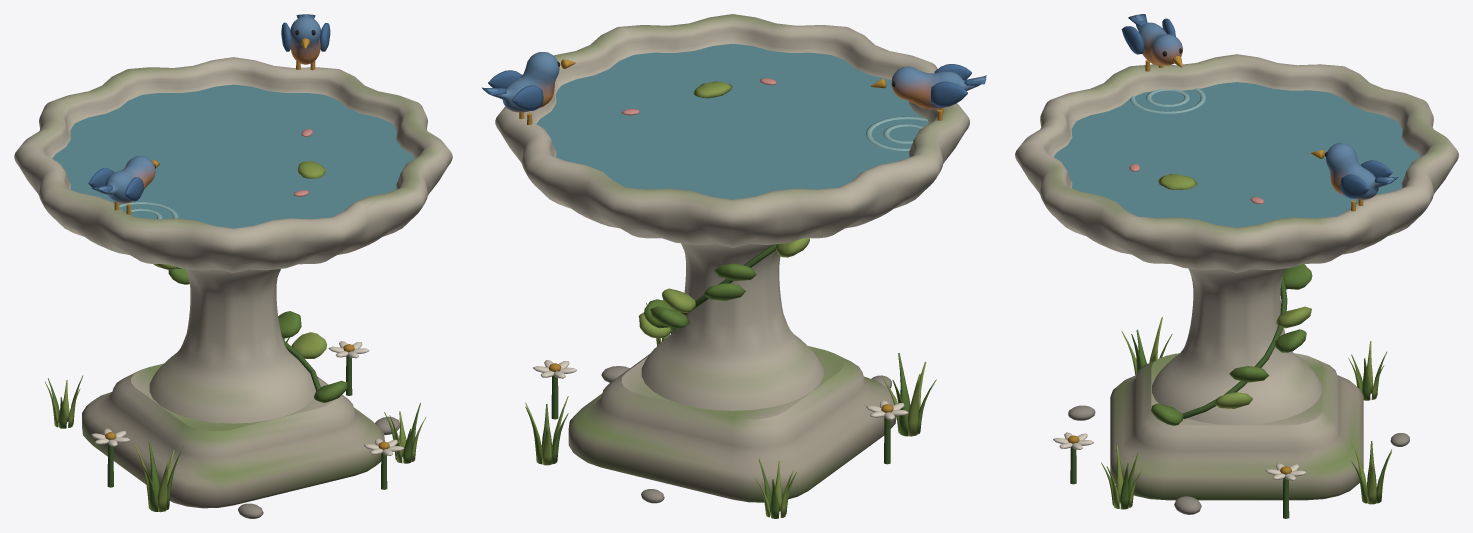
Rendered from DEC_Birdbath_A.fbx.
3 renders of one model, left to right at view 1: azimuth 30°, elevation 25°; view 2: azimuth 150°, elevation 25°; view 3: azimuth 270°, elevation 25°, orthographic. The views are drawn at different scales.
Parts seen in each view (by area): view 1: DEC_Birdbath_A_Body_LOD0, DEC_Birdbath_A_BirdDrinking_LOD0; view 2: DEC_Birdbath_A_Body_LOD0, DEC_Birdbath_A_BirdDrinking_LOD0; view 3: DEC_Birdbath_A_Body_LOD0, DEC_Birdbath_A_BirdDrinking_LOD0.
Part boxes in pixels (x1=…): DEC_Birdbath_A_Body_LOD0: x1=14, y1=14, x2=452, y2=518; DEC_Birdbath_A_BirdDrinking_LOD0: x1=88, y1=156, x2=160, y2=214; DEC_Birdbath_A_Body_LOD0: x1=482, y1=14, x2=969, y2=518; DEC_Birdbath_A_BirdDrinking_LOD0: x1=870, y1=64, x2=986, y2=120; DEC_Birdbath_A_Body_LOD0: x1=1015, y1=54, x2=1458, y2=518; DEC_Birdbath_A_BirdDrinking_LOD0: x1=1121, y1=14, x2=1182, y2=71.
Size of what is drawn, in the model's own units: 1.09 by 0.986 by 1.09.
